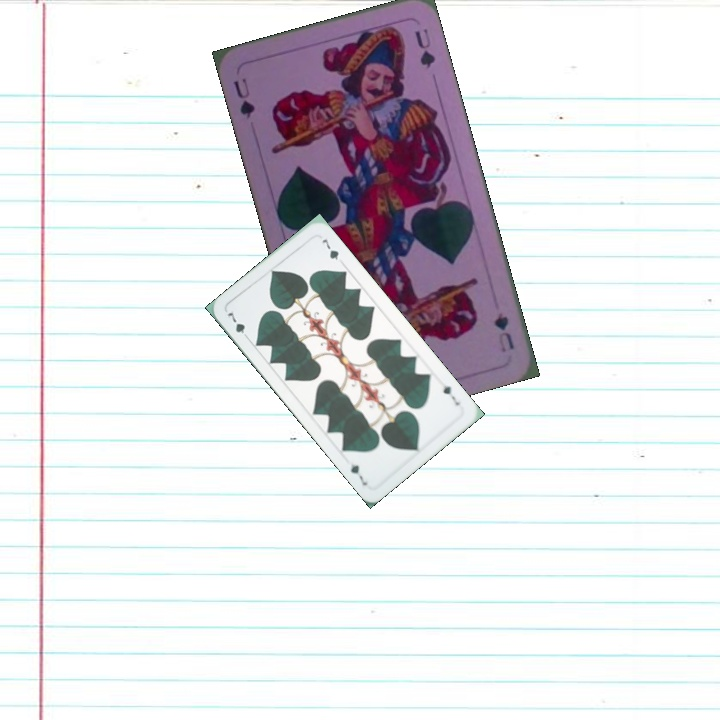G7: (223, 306, 252, 343), (437, 377, 464, 408)
GU: (229, 74, 258, 122), (490, 308, 517, 355)
